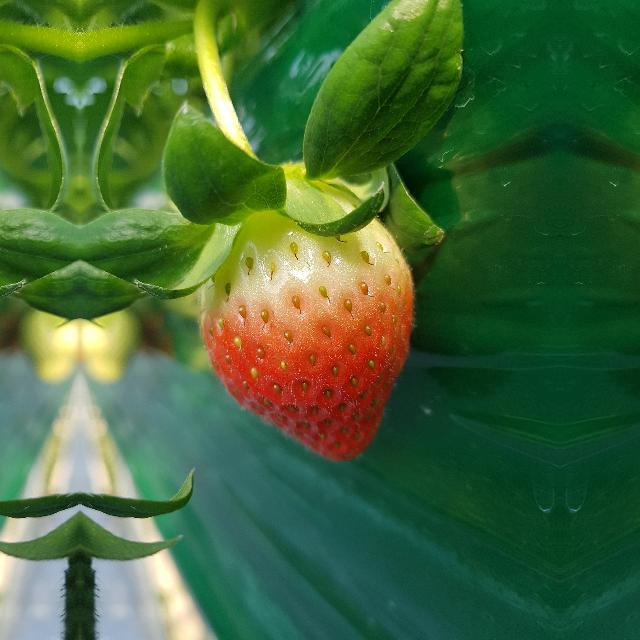Health_75: (198, 179, 416, 461)
